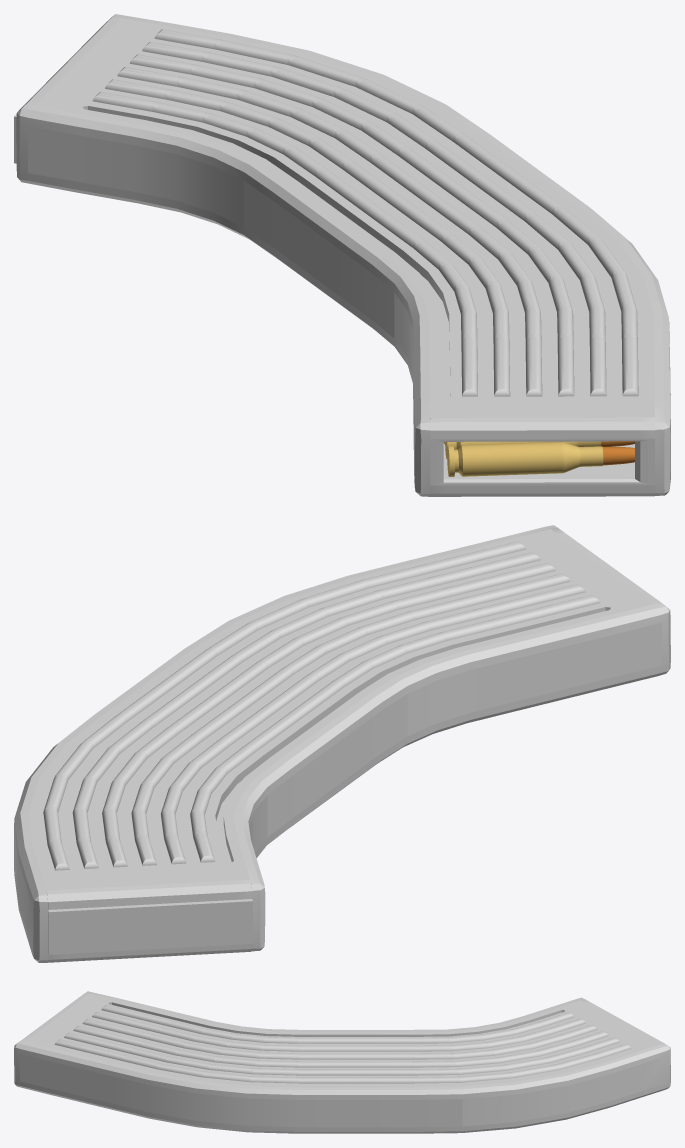
Rendered from cargadorAR1.fbx.
3 renders of one model, top to bottom at view 1: azimuth 30°, elevation 25°; view 2: azimuth 150°, elevation 25°; view 3: azimuth 270°, elevation 25°, orthographic. The views are drawn at different scales.
Visible parts, largest first — view 1: Bullet.004; view 2: Bullet.004; view 3: Bullet.004.
Boxes of the visible parts, x1=… form: Bullet.004: x1=14, y1=14, x2=670, y2=496; Bullet.004: x1=14, y1=525, x2=670, y2=962; Bullet.004: x1=14, y1=991, x2=670, y2=1133.
Size of the model in its own units: 5.59 by 1.22 by 15.2.
